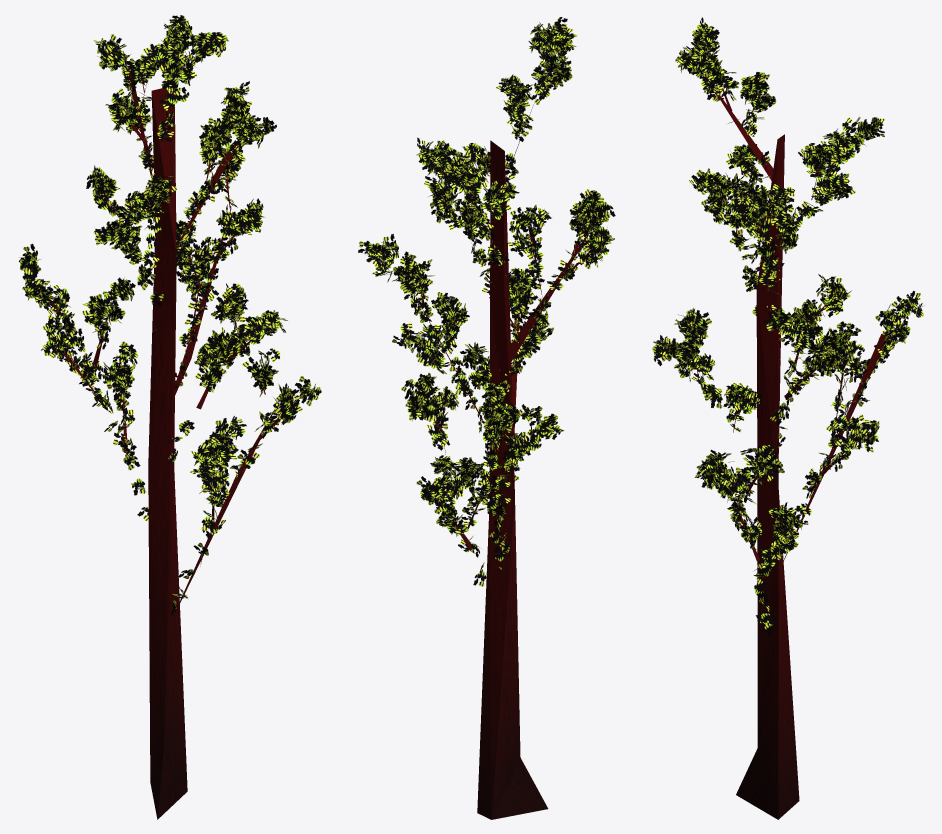
Rendered from baldcypress_v02_LOD2.glb.
The picture shows the model from 3 angles, left to right: view 1: azimuth 30°, elevation 25°; view 2: azimuth 150°, elevation 25°; view 3: azimuth 270°, elevation 25°; orthographic projection. The views are drawn at different scales.
Parts seen in each view (by area): view 1: baldcypress_v02_LOD2; view 2: baldcypress_v02_LOD2; view 3: baldcypress_v02_LOD2.
Part boxes in pixels (left/top/right/bottom): baldcypress_v02_LOD2: left=19, top=15, right=321, bottom=819; baldcypress_v02_LOD2: left=358, top=17, right=615, bottom=819; baldcypress_v02_LOD2: left=652, top=17, right=924, bottom=819.
Bounding box in the file's own units: 8.68 × 29.87 × 9.74.
Materials: 2 (2 with a texture image).
